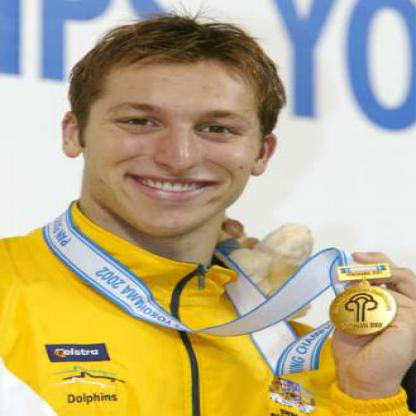face: (85, 31, 267, 238)
